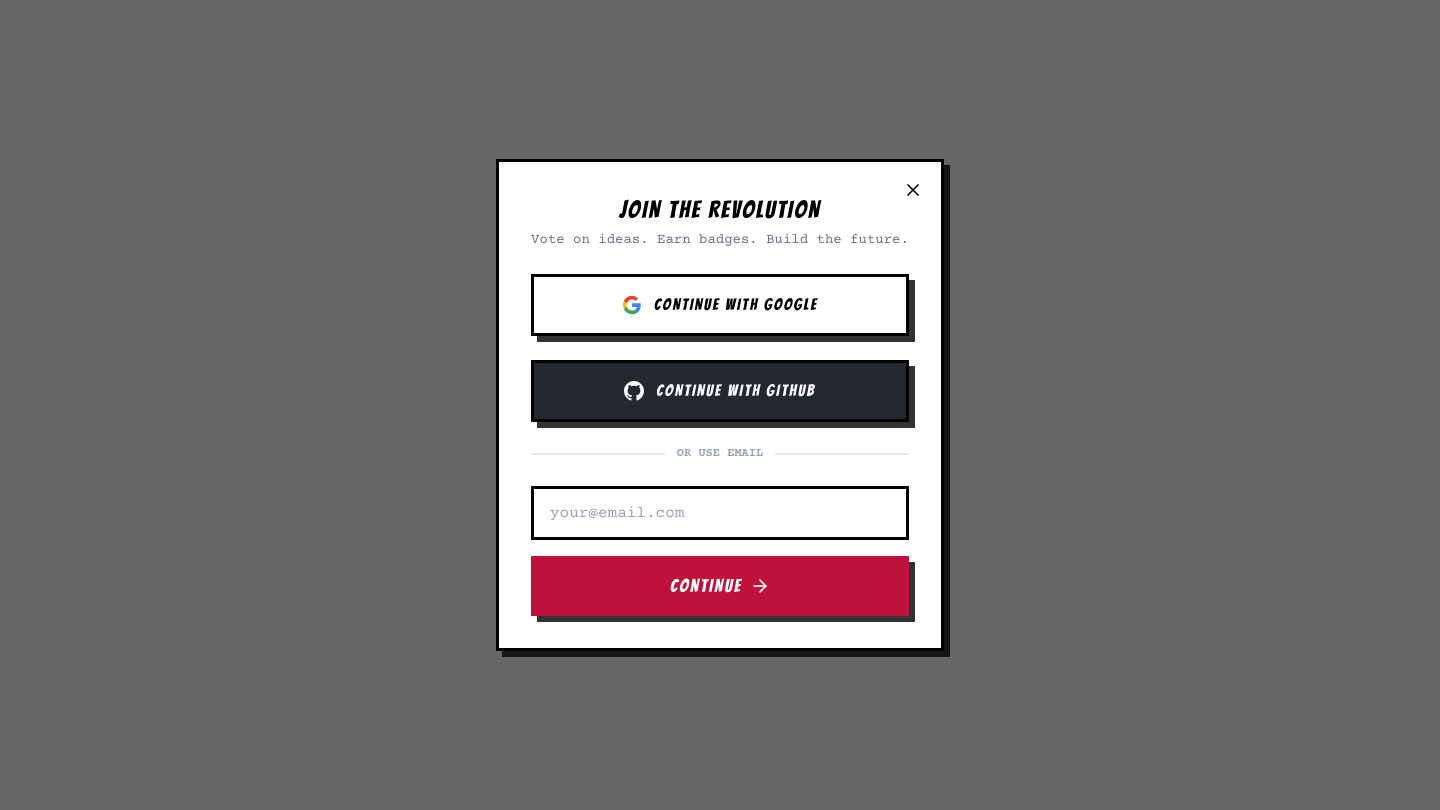
Test: AuthModal › handles magic link submission
The image size is (1440, 810).
Step 1. Type "new@example.com" into the field with placeholder "your@email.com" → (720, 513), box [531,486,909,540]
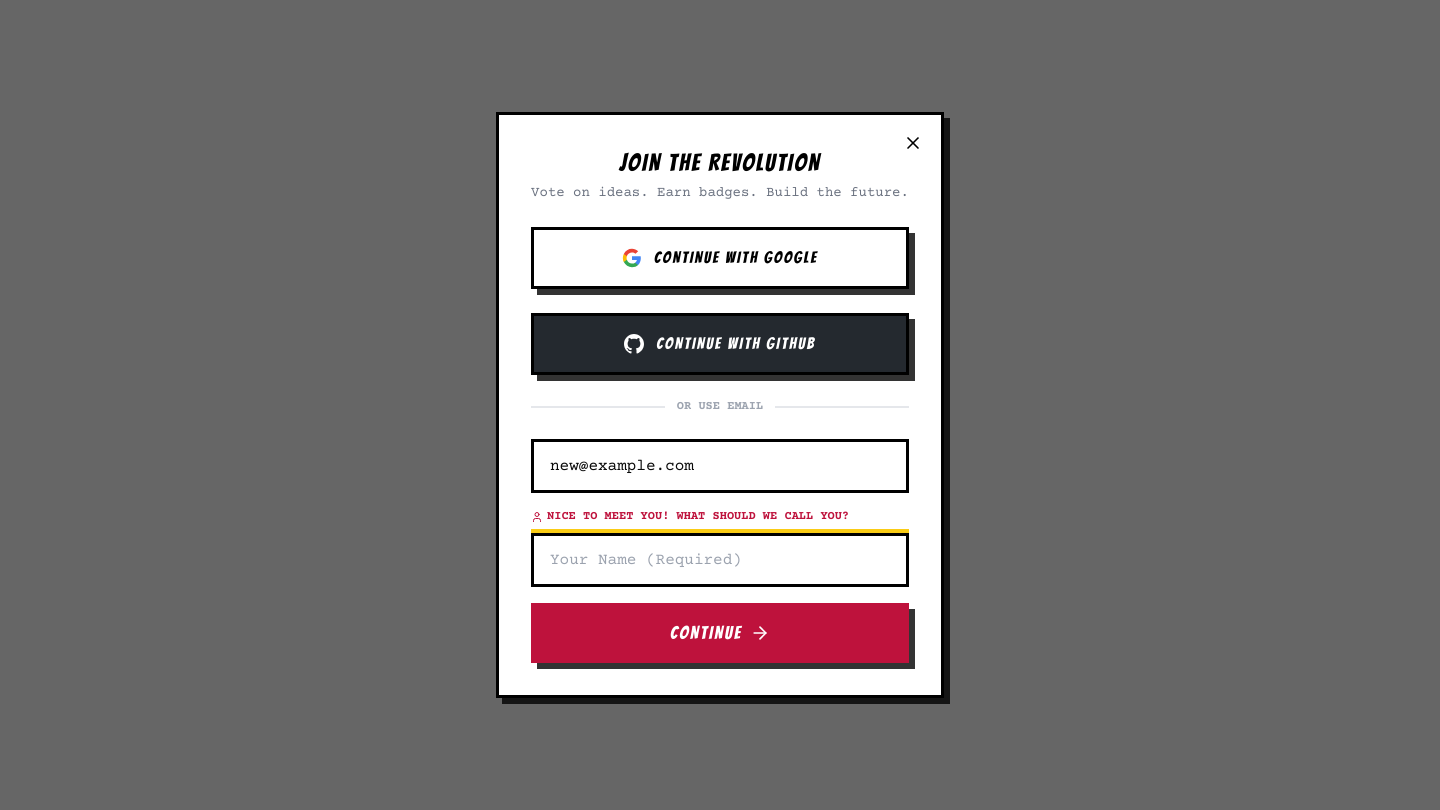
Now the field with placeholder "Your Name (Required)" is shown
Step 2. Type "Test User" into the field with placeholder "Your Name (Required)" → (720, 560), box [531,533,909,587]
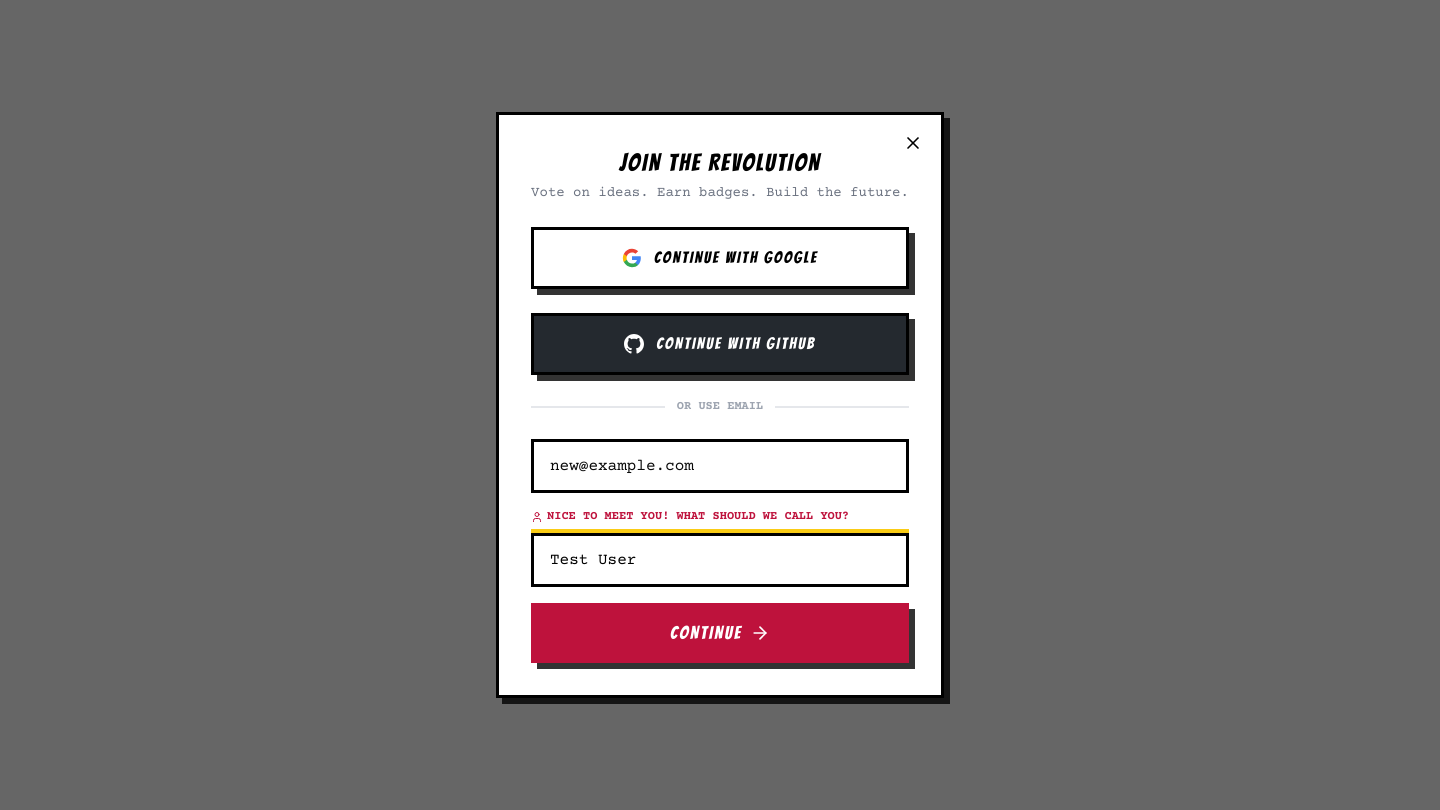
Step 3. Click the button "CONTINUE" → click(720, 633), box [531,603,909,663]
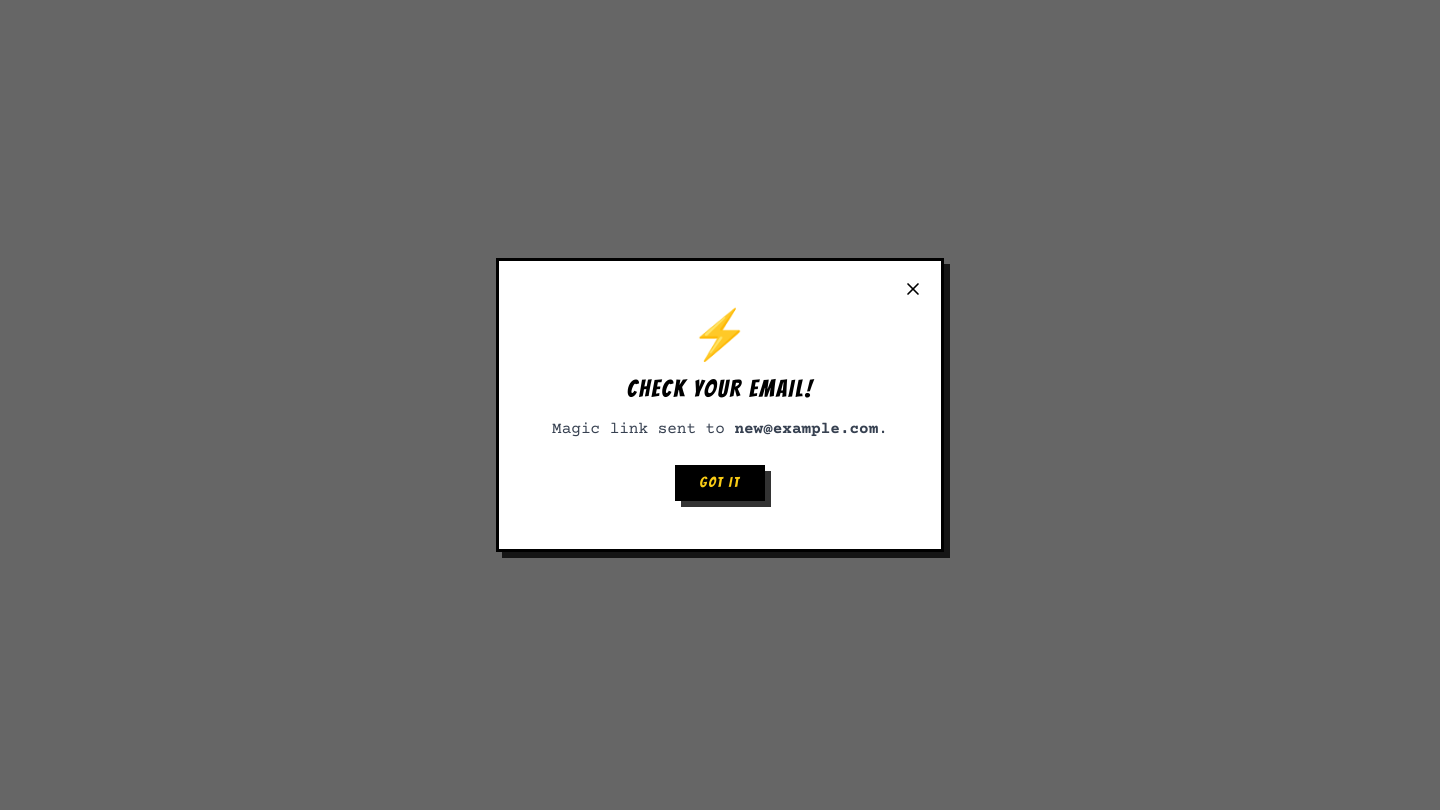
Now the heading "CHECK YOUR EMAIL!" is shown, box [627,376,813,401]
Now the text "new@example.com" is shown, box [734,420,878,438]
